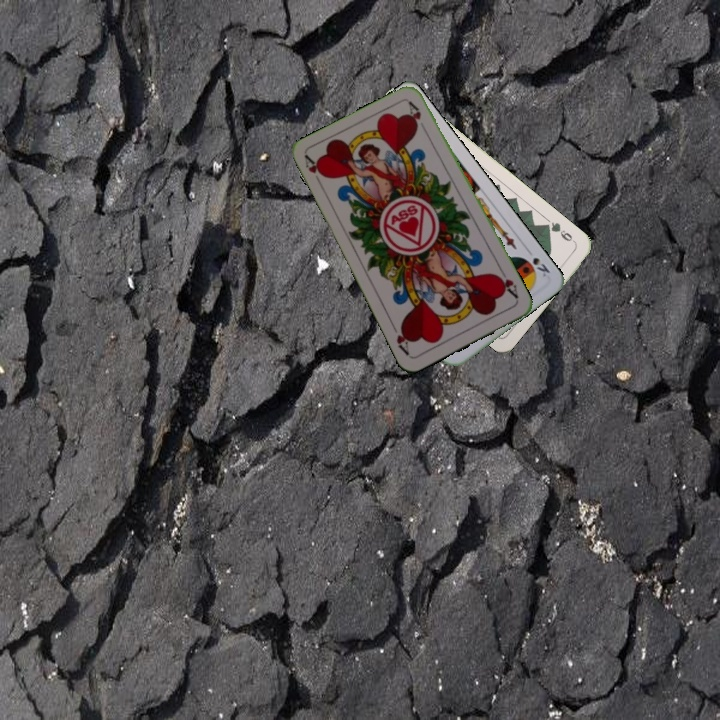G9: (541, 218, 579, 246)
HA: (492, 265, 521, 302), (301, 152, 328, 190)
SK: (522, 244, 553, 279)
